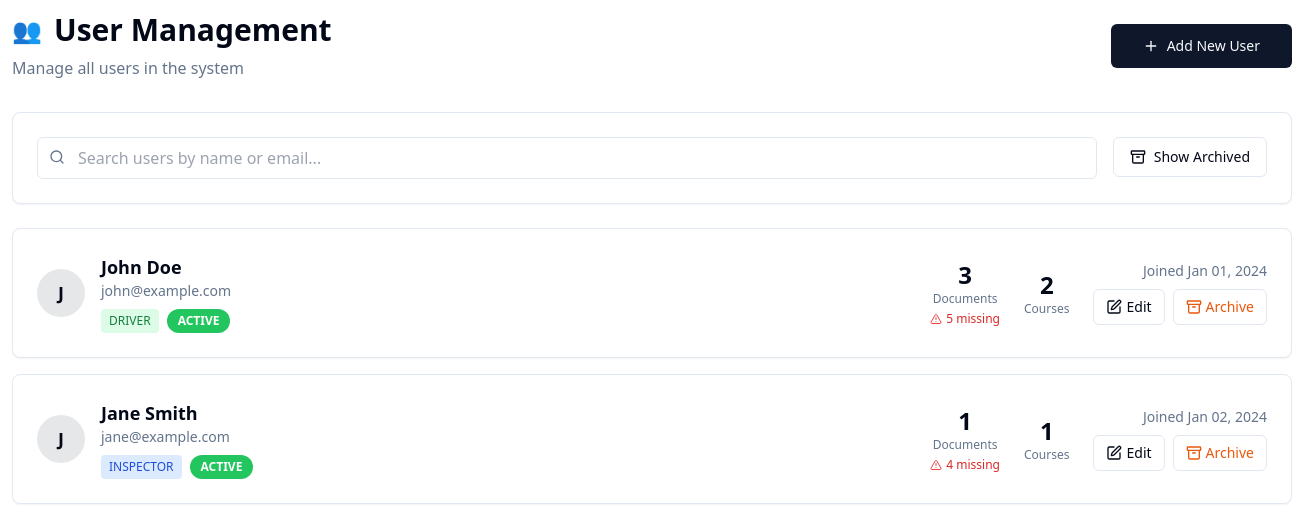
it: UserManagementClient › handles search functionality
The width and height of the screenshot is (1304, 521).
In the field with placeholder "Search users by name or email...": [567, 158] box [37, 137, 1097, 179], type "John"
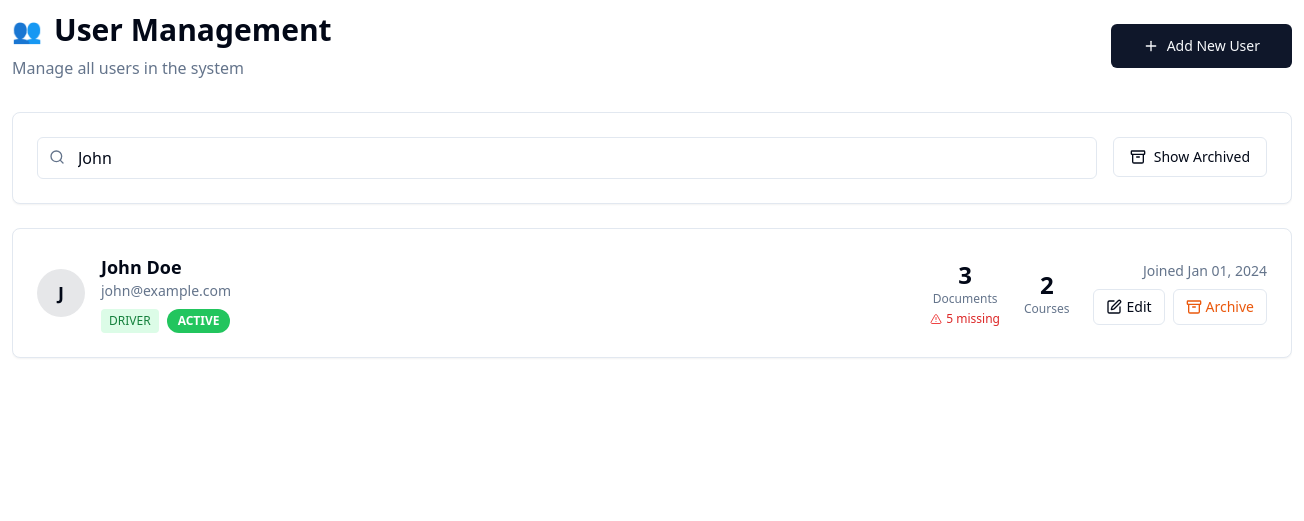
Expected: the button "John Doe" is shown, [101, 253, 182, 281]
Expected: the button "Jane Smith" is gone
